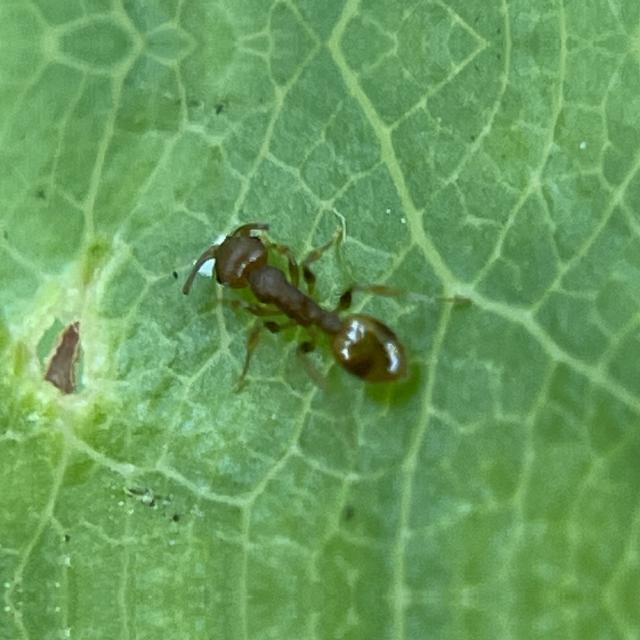Temnothorax: (173, 218, 454, 404)
